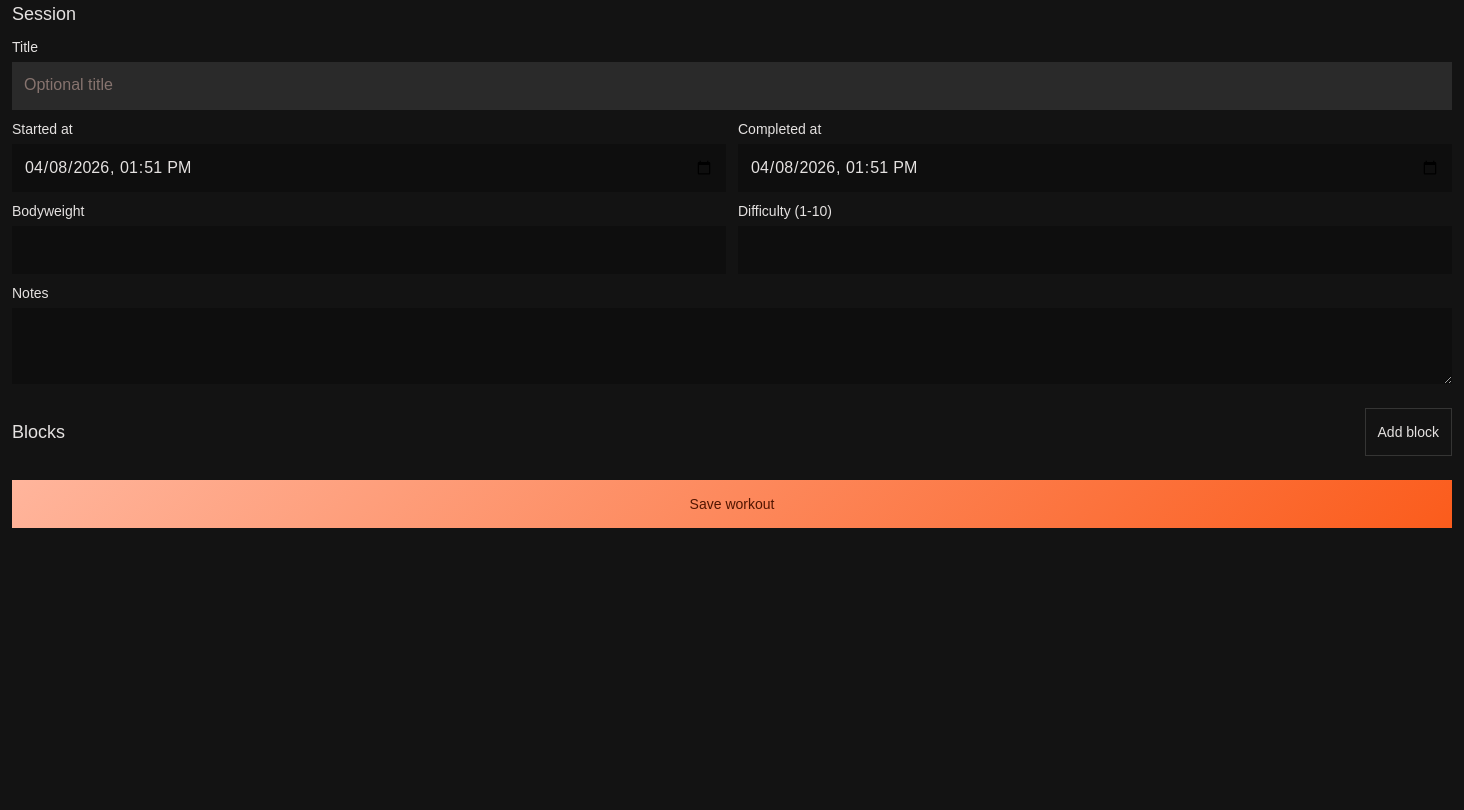
Test: ManualWorkoutForm -- create flow › blocks submit when completedAt is empty and shows error
Clear the field labelled "Completed at" at (1095, 168), box [738,144,1452,192]
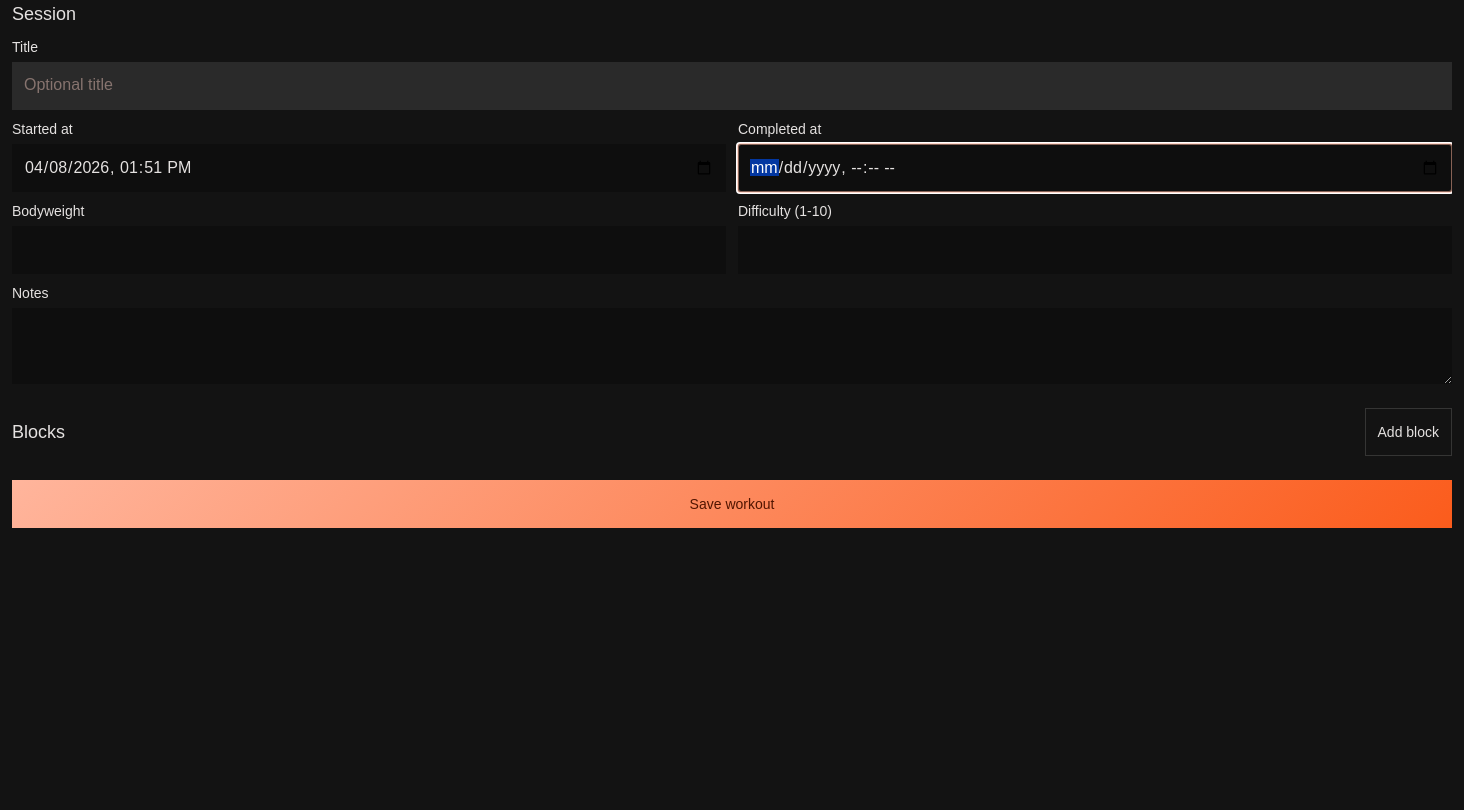
Click the button "Save workout" at (732, 504), box [12,480,1452,528]
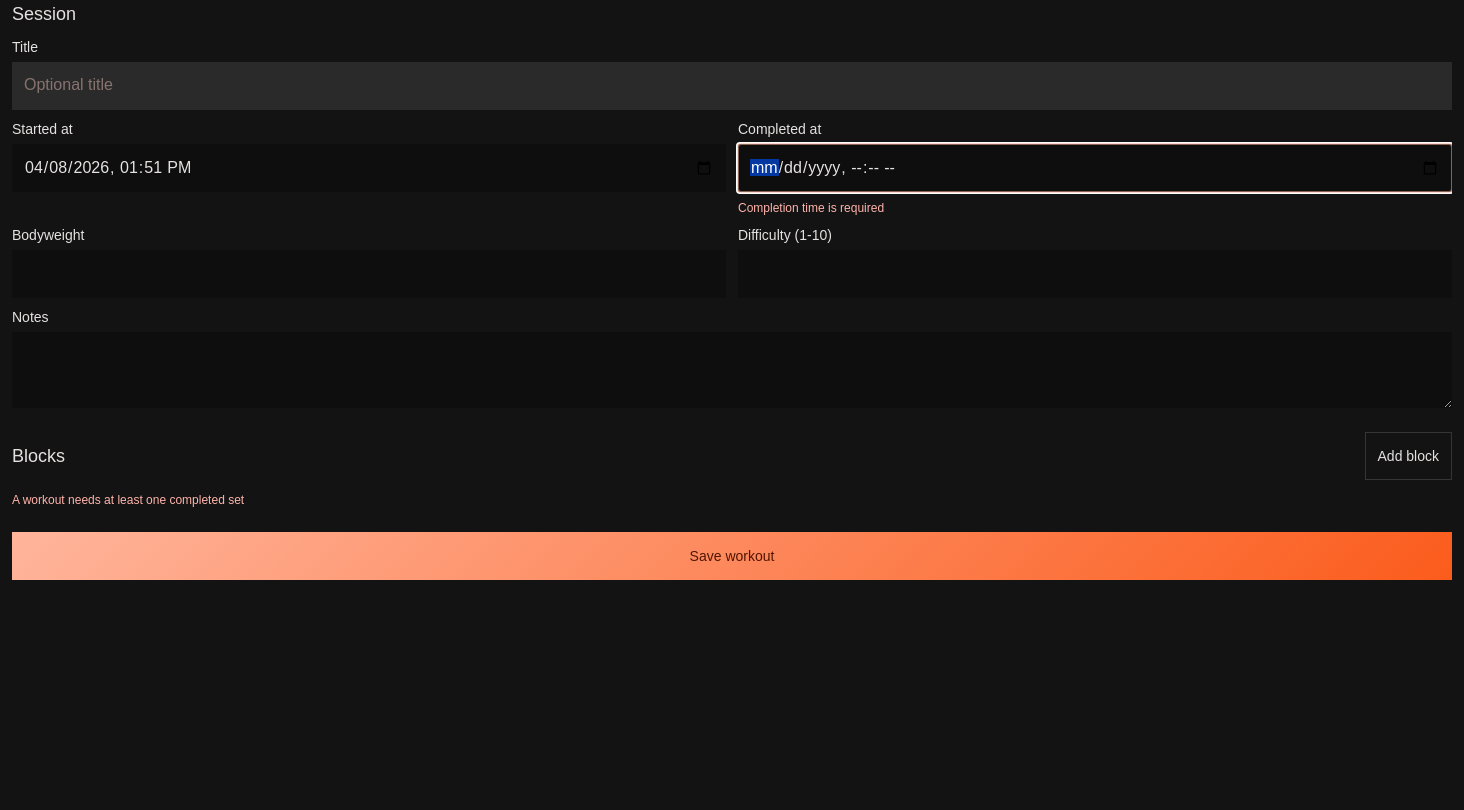
Result: the text "Completion time is required" is shown at [738,201,884,215]
